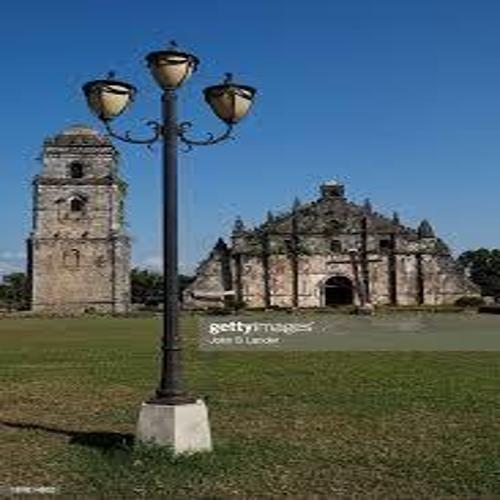Paoay Church: (29, 104, 480, 332)
